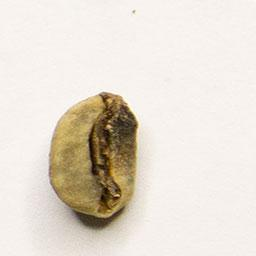defect: (45, 89, 143, 224)
